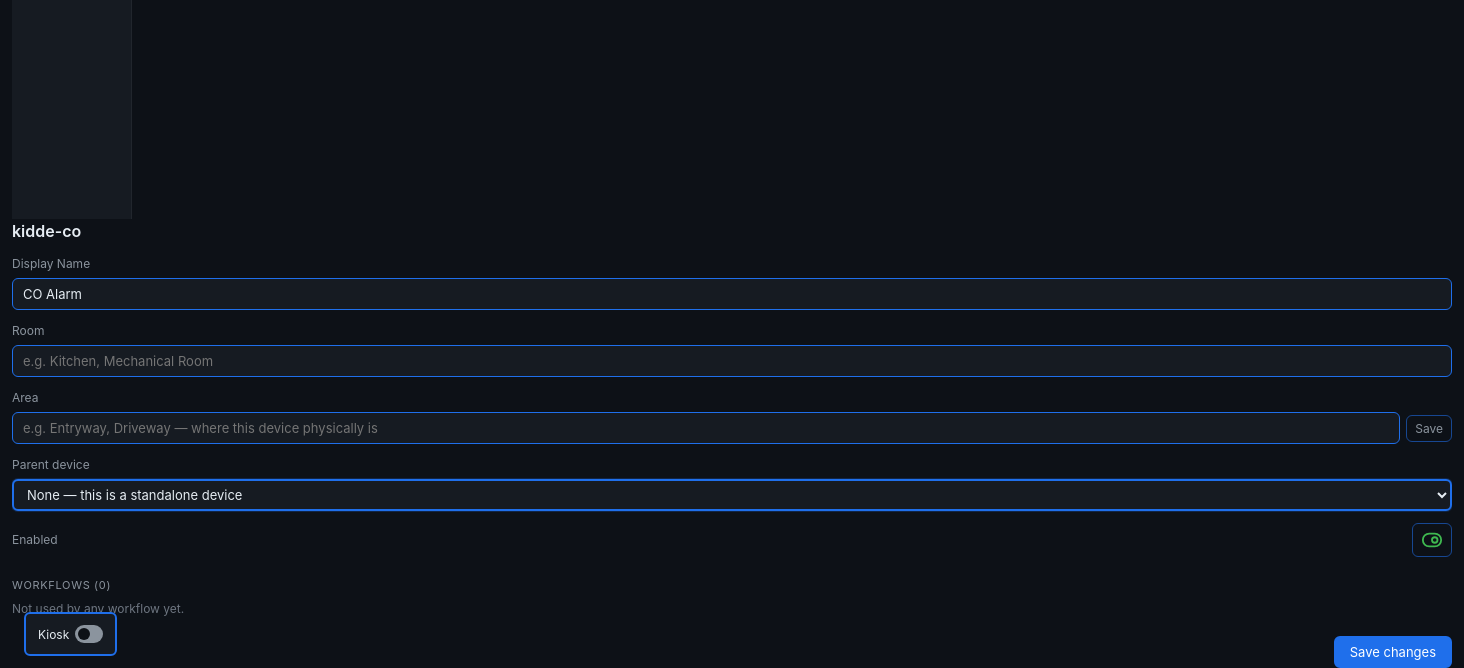
Scenario: DmEditForm parent device picker (Item 4a) › surfaces a server-side rejection (e.g. a cycle) as a real error, not a silent no-op
(page scrolled)
Select "Kidde CO/Air Quality Unit" in the dropdown labelled "Parent device": [732, 495] box [12,479,1452,511]
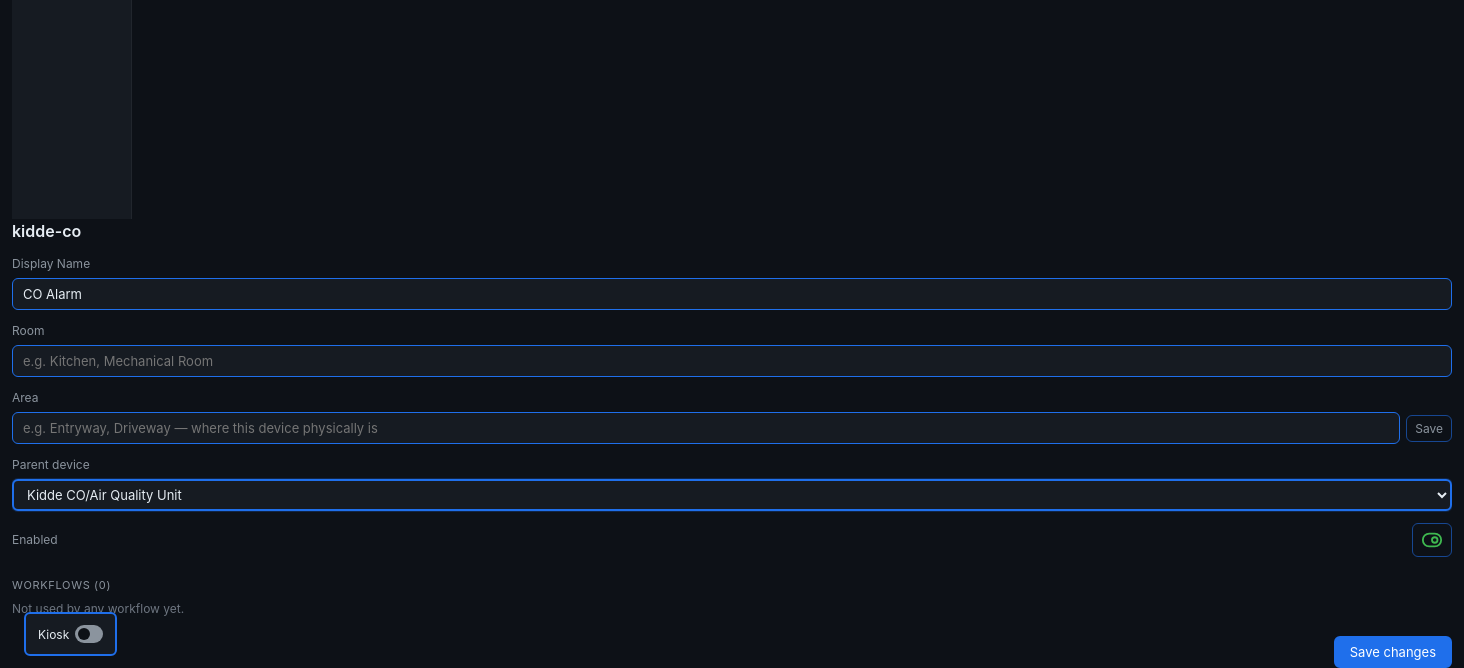
Click the button "Save changes": [1393, 652] box [1334,636,1452,667]
(page scrolled)
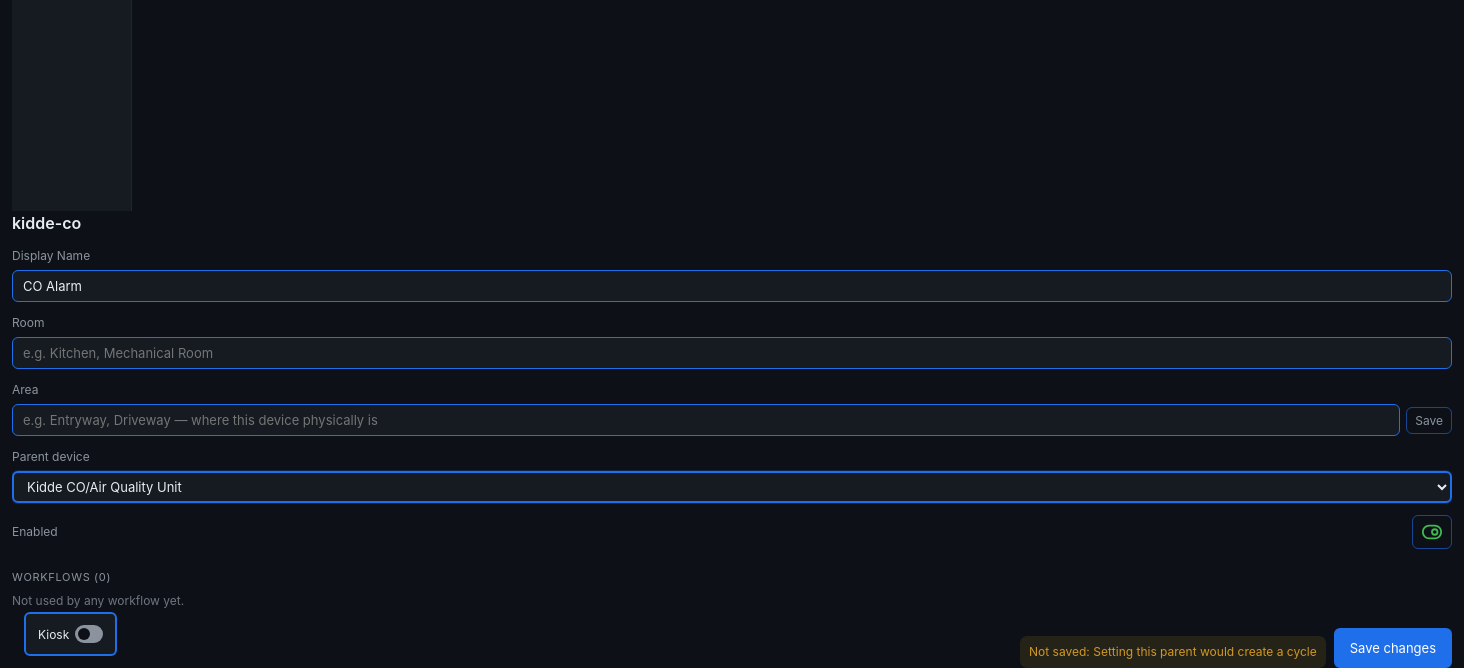
expect the text "Not saved: Setting this parent would create a cycle" is shown: met, box [1020,636,1326,667]
